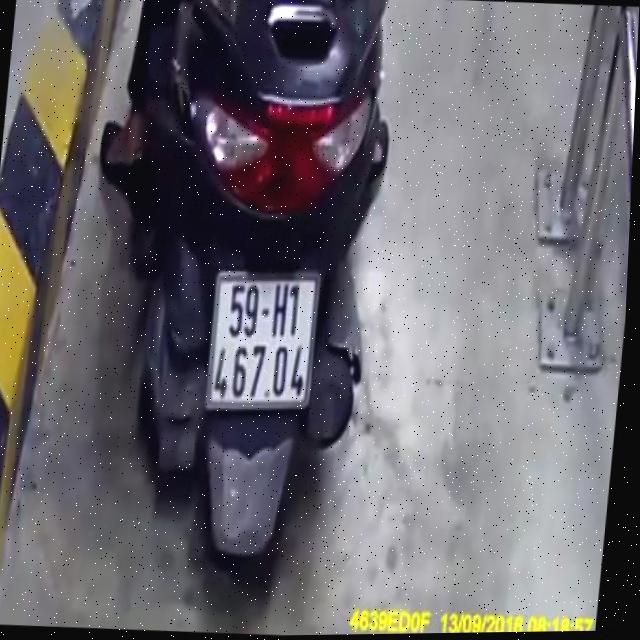motorcycle: (87, 0, 417, 602)
plate: (197, 265, 325, 419)
